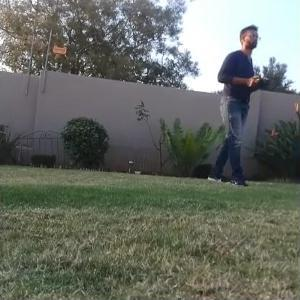follow: (202, 12, 272, 190)
